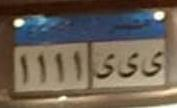1: (35, 52, 47, 84), (19, 51, 30, 84), (53, 52, 65, 82), (73, 50, 82, 81)
yaa: (140, 48, 167, 78), (117, 51, 138, 79), (95, 52, 116, 80)
